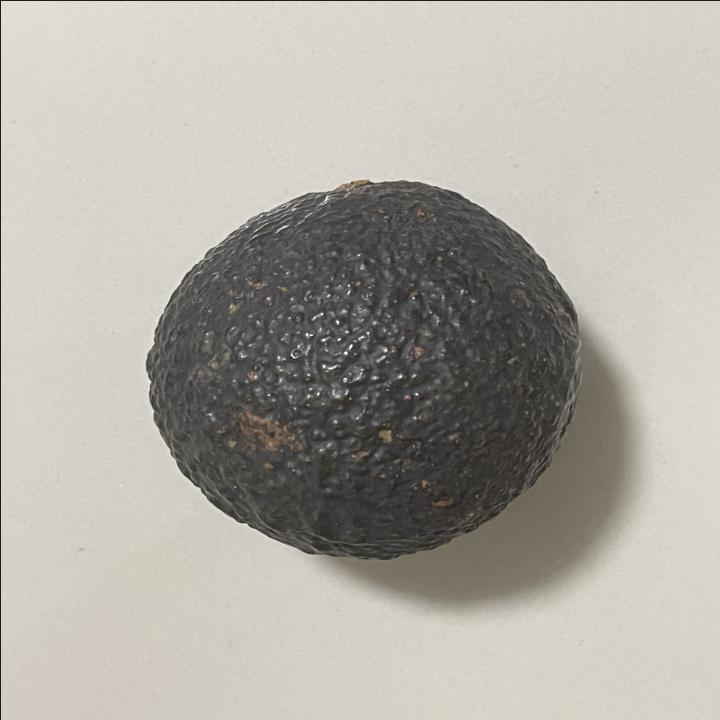Level1: (129, 162, 598, 570)
